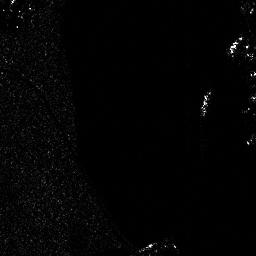ship: (201, 89, 210, 119)
